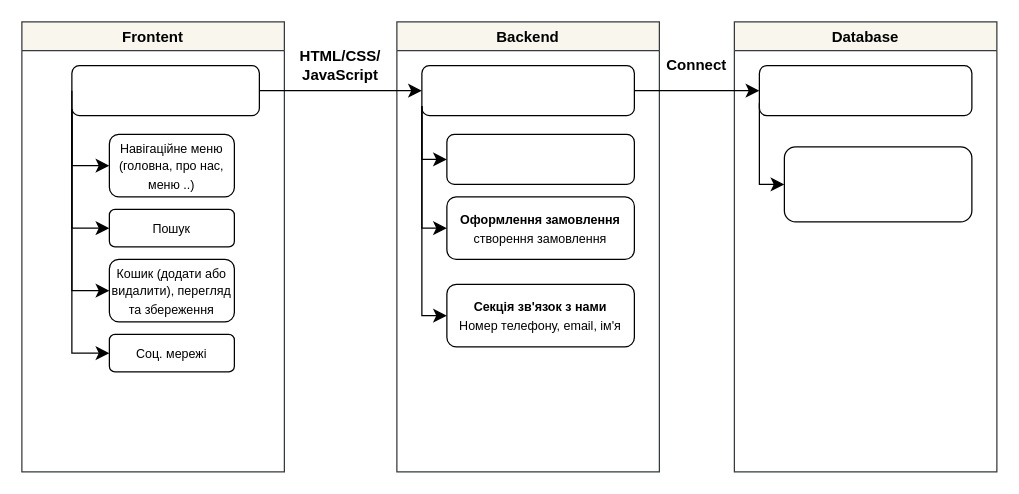
The diagram is 1019 pixels wide and 494 high, and some of its shapes have lost their labels. Here are the shapes that lost their labels. From the top down, the centre of each, then its label:
[165,90]: Main
[527,90]: Backend API (Node.js + Express)
[865,90]: My SQL
[540,158]: Пошук з вернення до бази даних
[877,184]: Таблиці: Products, orders, ordersItems, contacs
